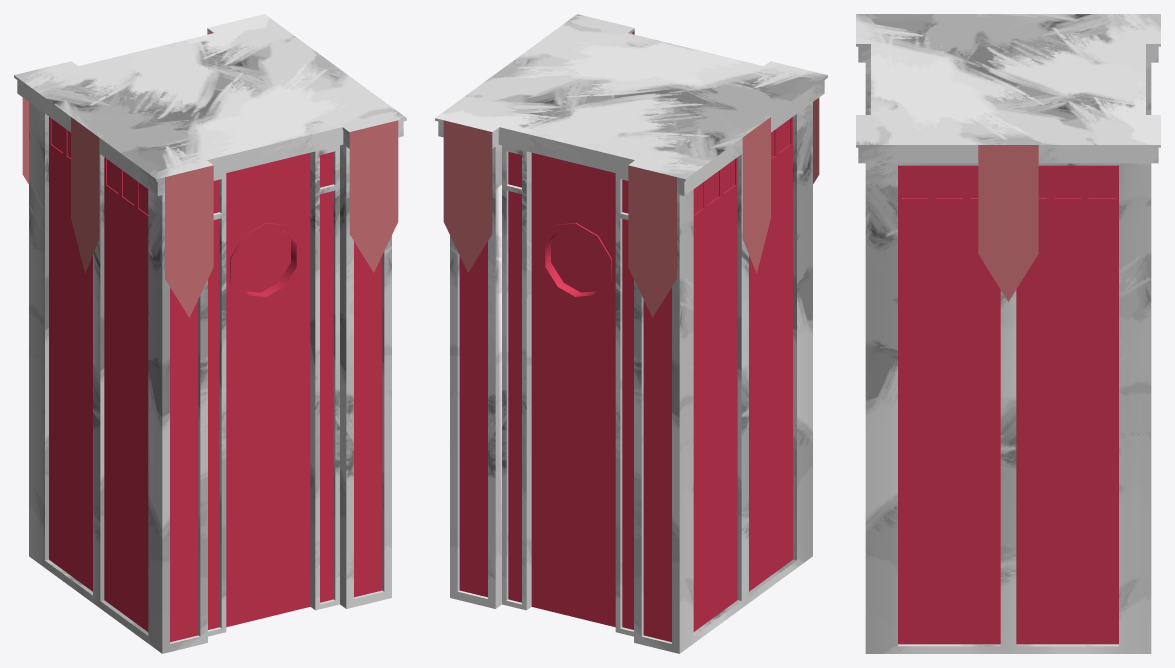
The model's file is FoundationBuilding_A.fbx.
3 renders of one model, left to right at view 1: azimuth 30°, elevation 25°; view 2: azimuth 150°, elevation 25°; view 3: azimuth 270°, elevation 25°, orthographic. The views are drawn at different scales.
Visible parts, largest first — view 1: Floor_A, Floor_A.003; view 2: Floor_A, Floor_A.003; view 3: Floor_A, Floor_A.003.
Boxes of the visible parts, x1=… form: Floor_A: x1=14, y1=14, x2=406, y2=653; Floor_A.003: x1=22, y1=31, x2=398, y2=317; Floor_A: x1=435, y1=14, x2=827, y2=653; Floor_A.003: x1=443, y1=31, x2=819, y2=317; Floor_A: x1=856, y1=14, x2=1160, y2=653; Floor_A.003: x1=978, y1=145, x2=1038, y2=301.
Bounding box in the file's own units: 8447 × 15477 × 8307.
